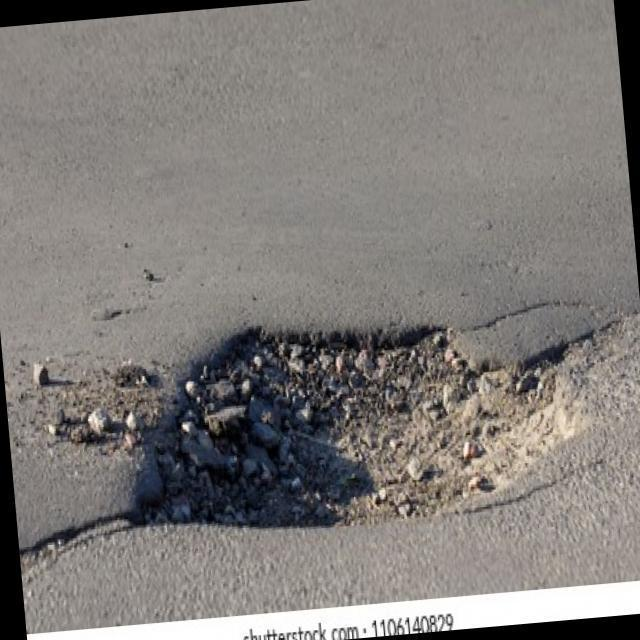pothole: (115, 299, 584, 552)
